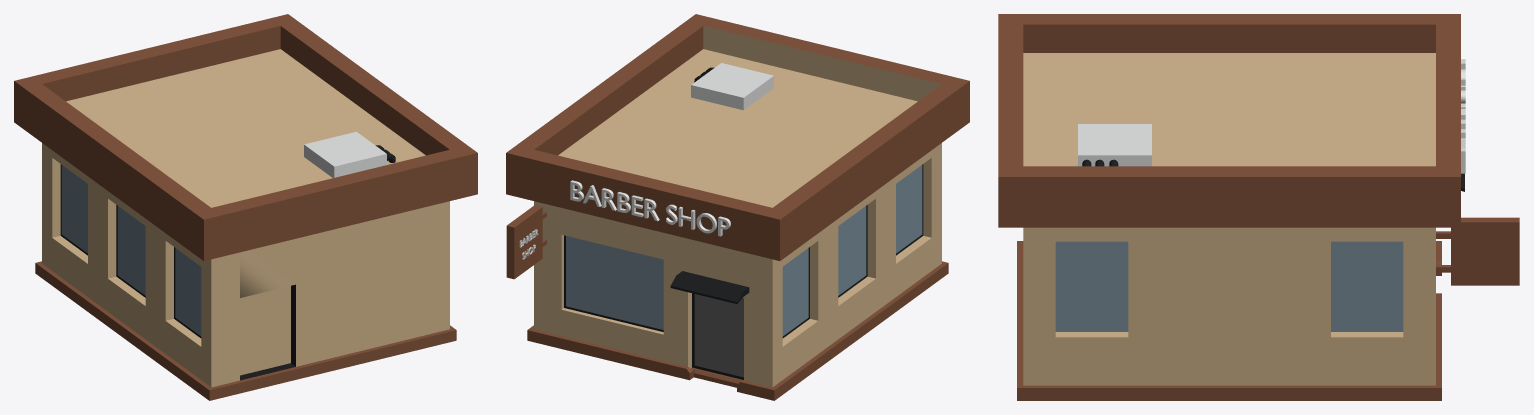
The model's file is barber.fbx.
3 renders of one model, left to right at view 1: azimuth 30°, elevation 25°; view 2: azimuth 150°, elevation 25°; view 3: azimuth 270°, elevation 25°, orthographic. The views are drawn at different scales.
Visible parts, largest first — view 1: barber shop; view 2: barber shop; view 3: barber shop.
Part boxes in pixels (bbox=[...]): barber shop: bbox=[14, 14, 477, 400]; barber shop: bbox=[506, 14, 969, 400]; barber shop: bbox=[998, 14, 1519, 400].
Size of the model in its own units: 789 by 523 by 1067.
